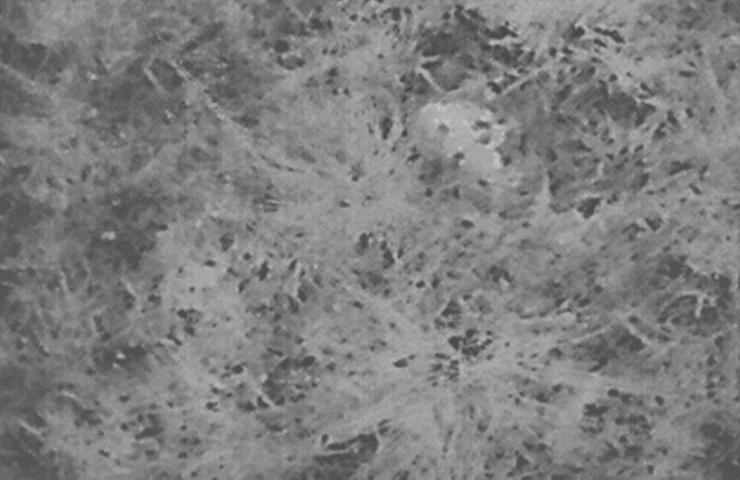landmines: (407, 97, 489, 156)
